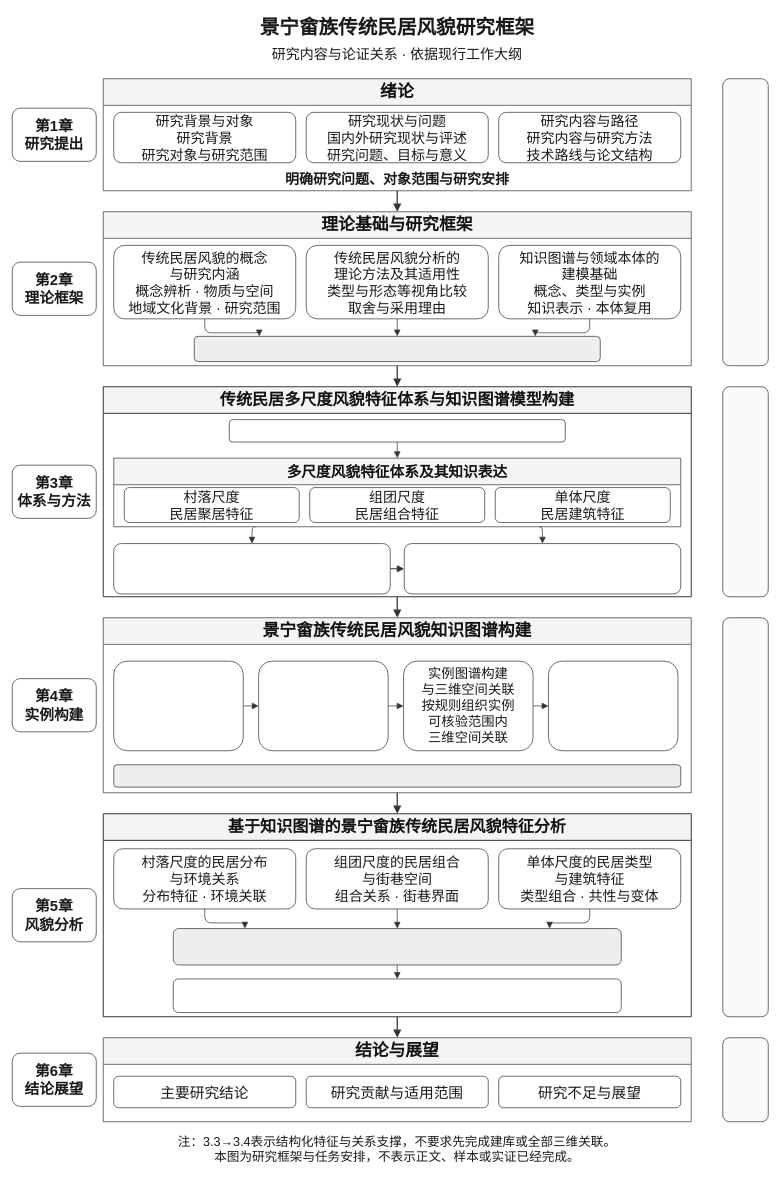
Some shapes in this 781 by 1182 pixel diagram are drawn without their labels. The centre of each missing label's shape, as x and y in pixels:
"交付：可追溯的真实实例图谱、空间对应与数据使用边界" goes at point 397,775.
"体 系 与 方 法" goes at point 745,491.
"图谱构建成果 与质量检验 图谱成果及覆盖范围 质量检验与使用边界" goes at point 613,705.
"多源资料采集 与风貌特征提取 资料质量评估 特征标注与 记录性类型归类" goes at point 323,705.
"实 例 应 用 与 认 识" goes at point 745,817.
"知识图谱与三维关联方法的应用评价 分别评价支持作用、适用条件与局限" goes at point 397,995.
"知识图谱模型与构建方法 跨尺度知识关联 · 三维区域关联 实例化规则与质量控制方法" goes at point 251,568.
"研 究 基 础" goes at point 745,222.
"研究区域 与样本确定 区域与民居概况 样本与分析单元" goes at point 178,705.
"综 合 归 纳" goes at point 745,1079.
"跨尺度风貌关联与综合特征分析 类型组合—空间关系—有据的建筑学解释" goes at point 397,946.
"风貌分析与知识图谱结合的研究框架" goes at point 397,349.
"风貌特征体系的构建依据与原则" goes at point 397,430.
"风貌类型识别与比较分析方法 结构化特征与关系支撑 类型归类规则与跨尺度比较" goes at point 542,568.
